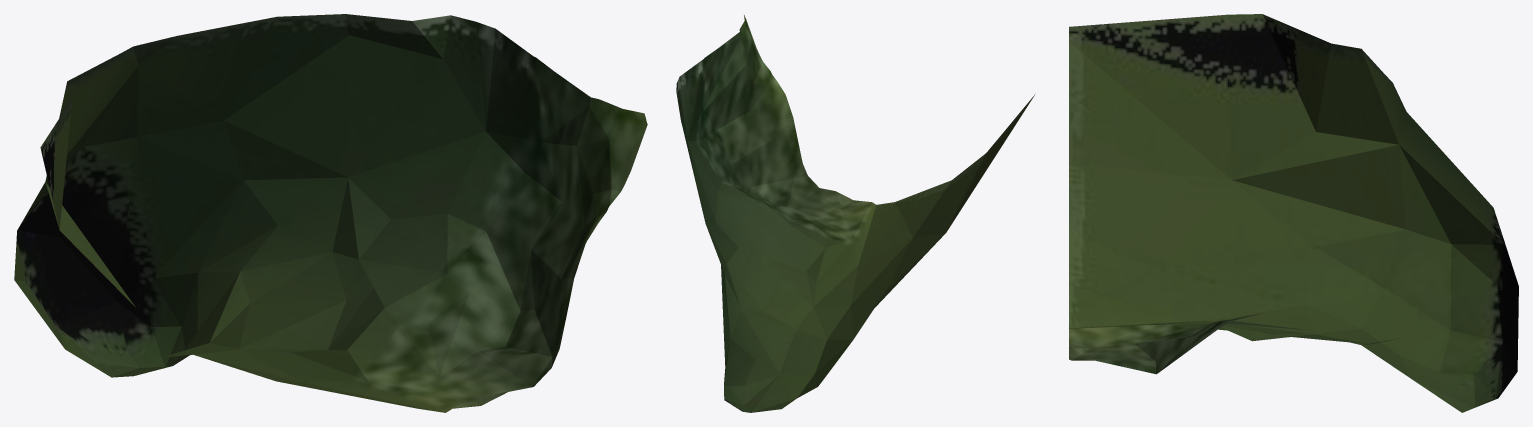
3 renders of one model, left to right at view 1: azimuth 30°, elevation 25°; view 2: azimuth 150°, elevation 25°; view 3: azimuth 270°, elevation 25°, orthographic. The views are drawn at different scales.
Size of the model in its own units: 3.14 by 2.29 by 3.1.
Materials: 1 (1 with a texture image).
